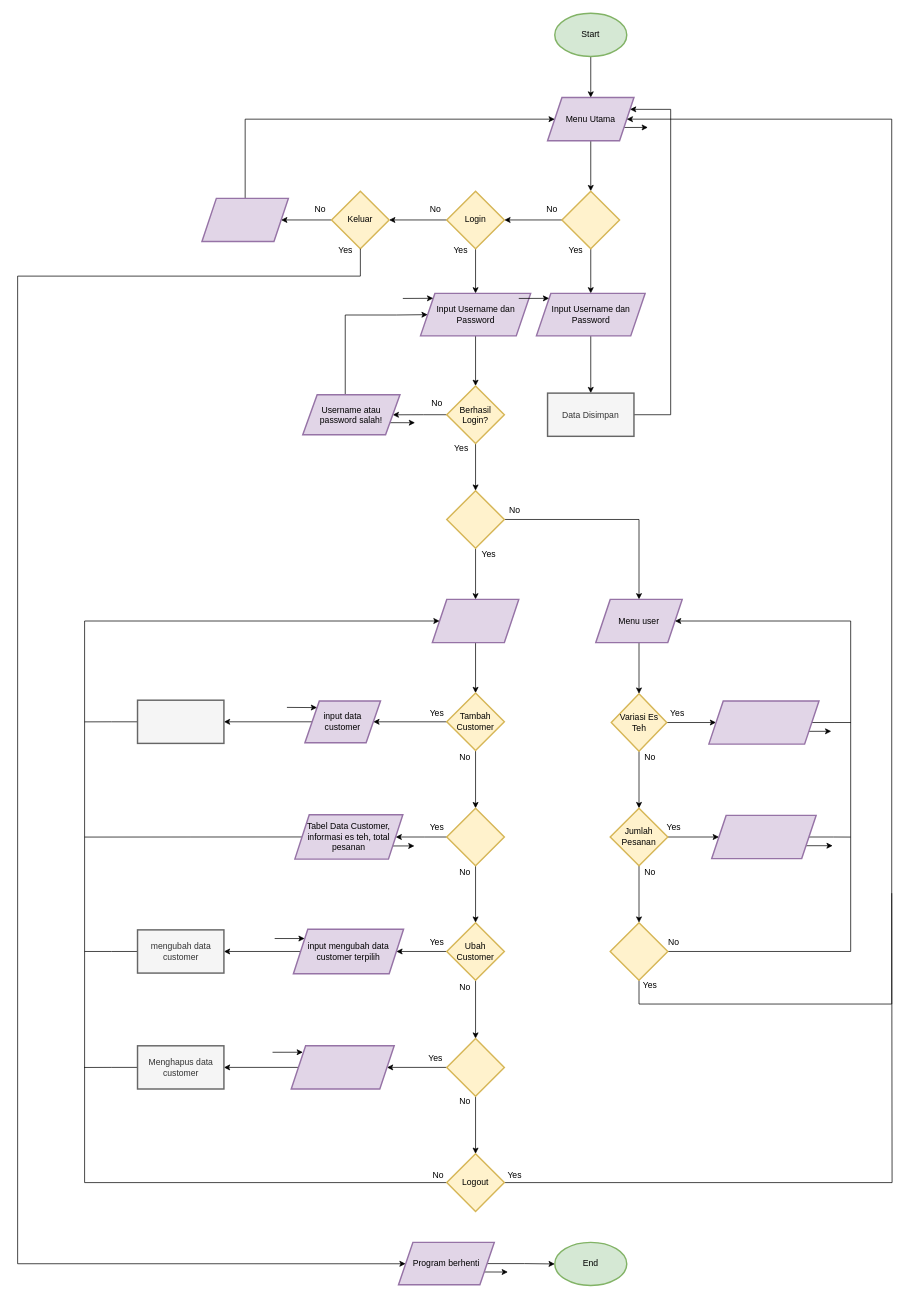
Some shapes in this 910 by 1298 pixel diagram are drawn without their labels. Here are the shapes that lost their labels. From the top down, the centre of each, then its label:
At point (245, 219): "Input tidak valid".
At point (590, 219): "Register".
At point (475, 519): "Admin?".
At point (475, 620): "Menu Admin".
At point (180, 721): "Tambah data customer".
At point (763, 722): "Tabel Informasi es teh".
At point (475, 836): "Tampilkan Customer".
At point (763, 836): "Total pembeli es teh".
At point (638, 951): "Kembali".
At point (342, 1067): "input pilih customer".
At point (475, 1067): "Hapus Customer".
